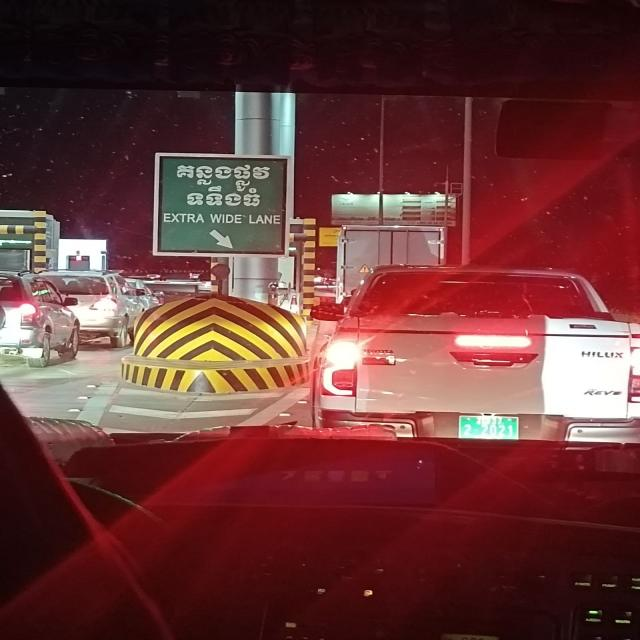Yolov11_80vkh: (173, 160, 271, 194), (181, 182, 261, 208)
